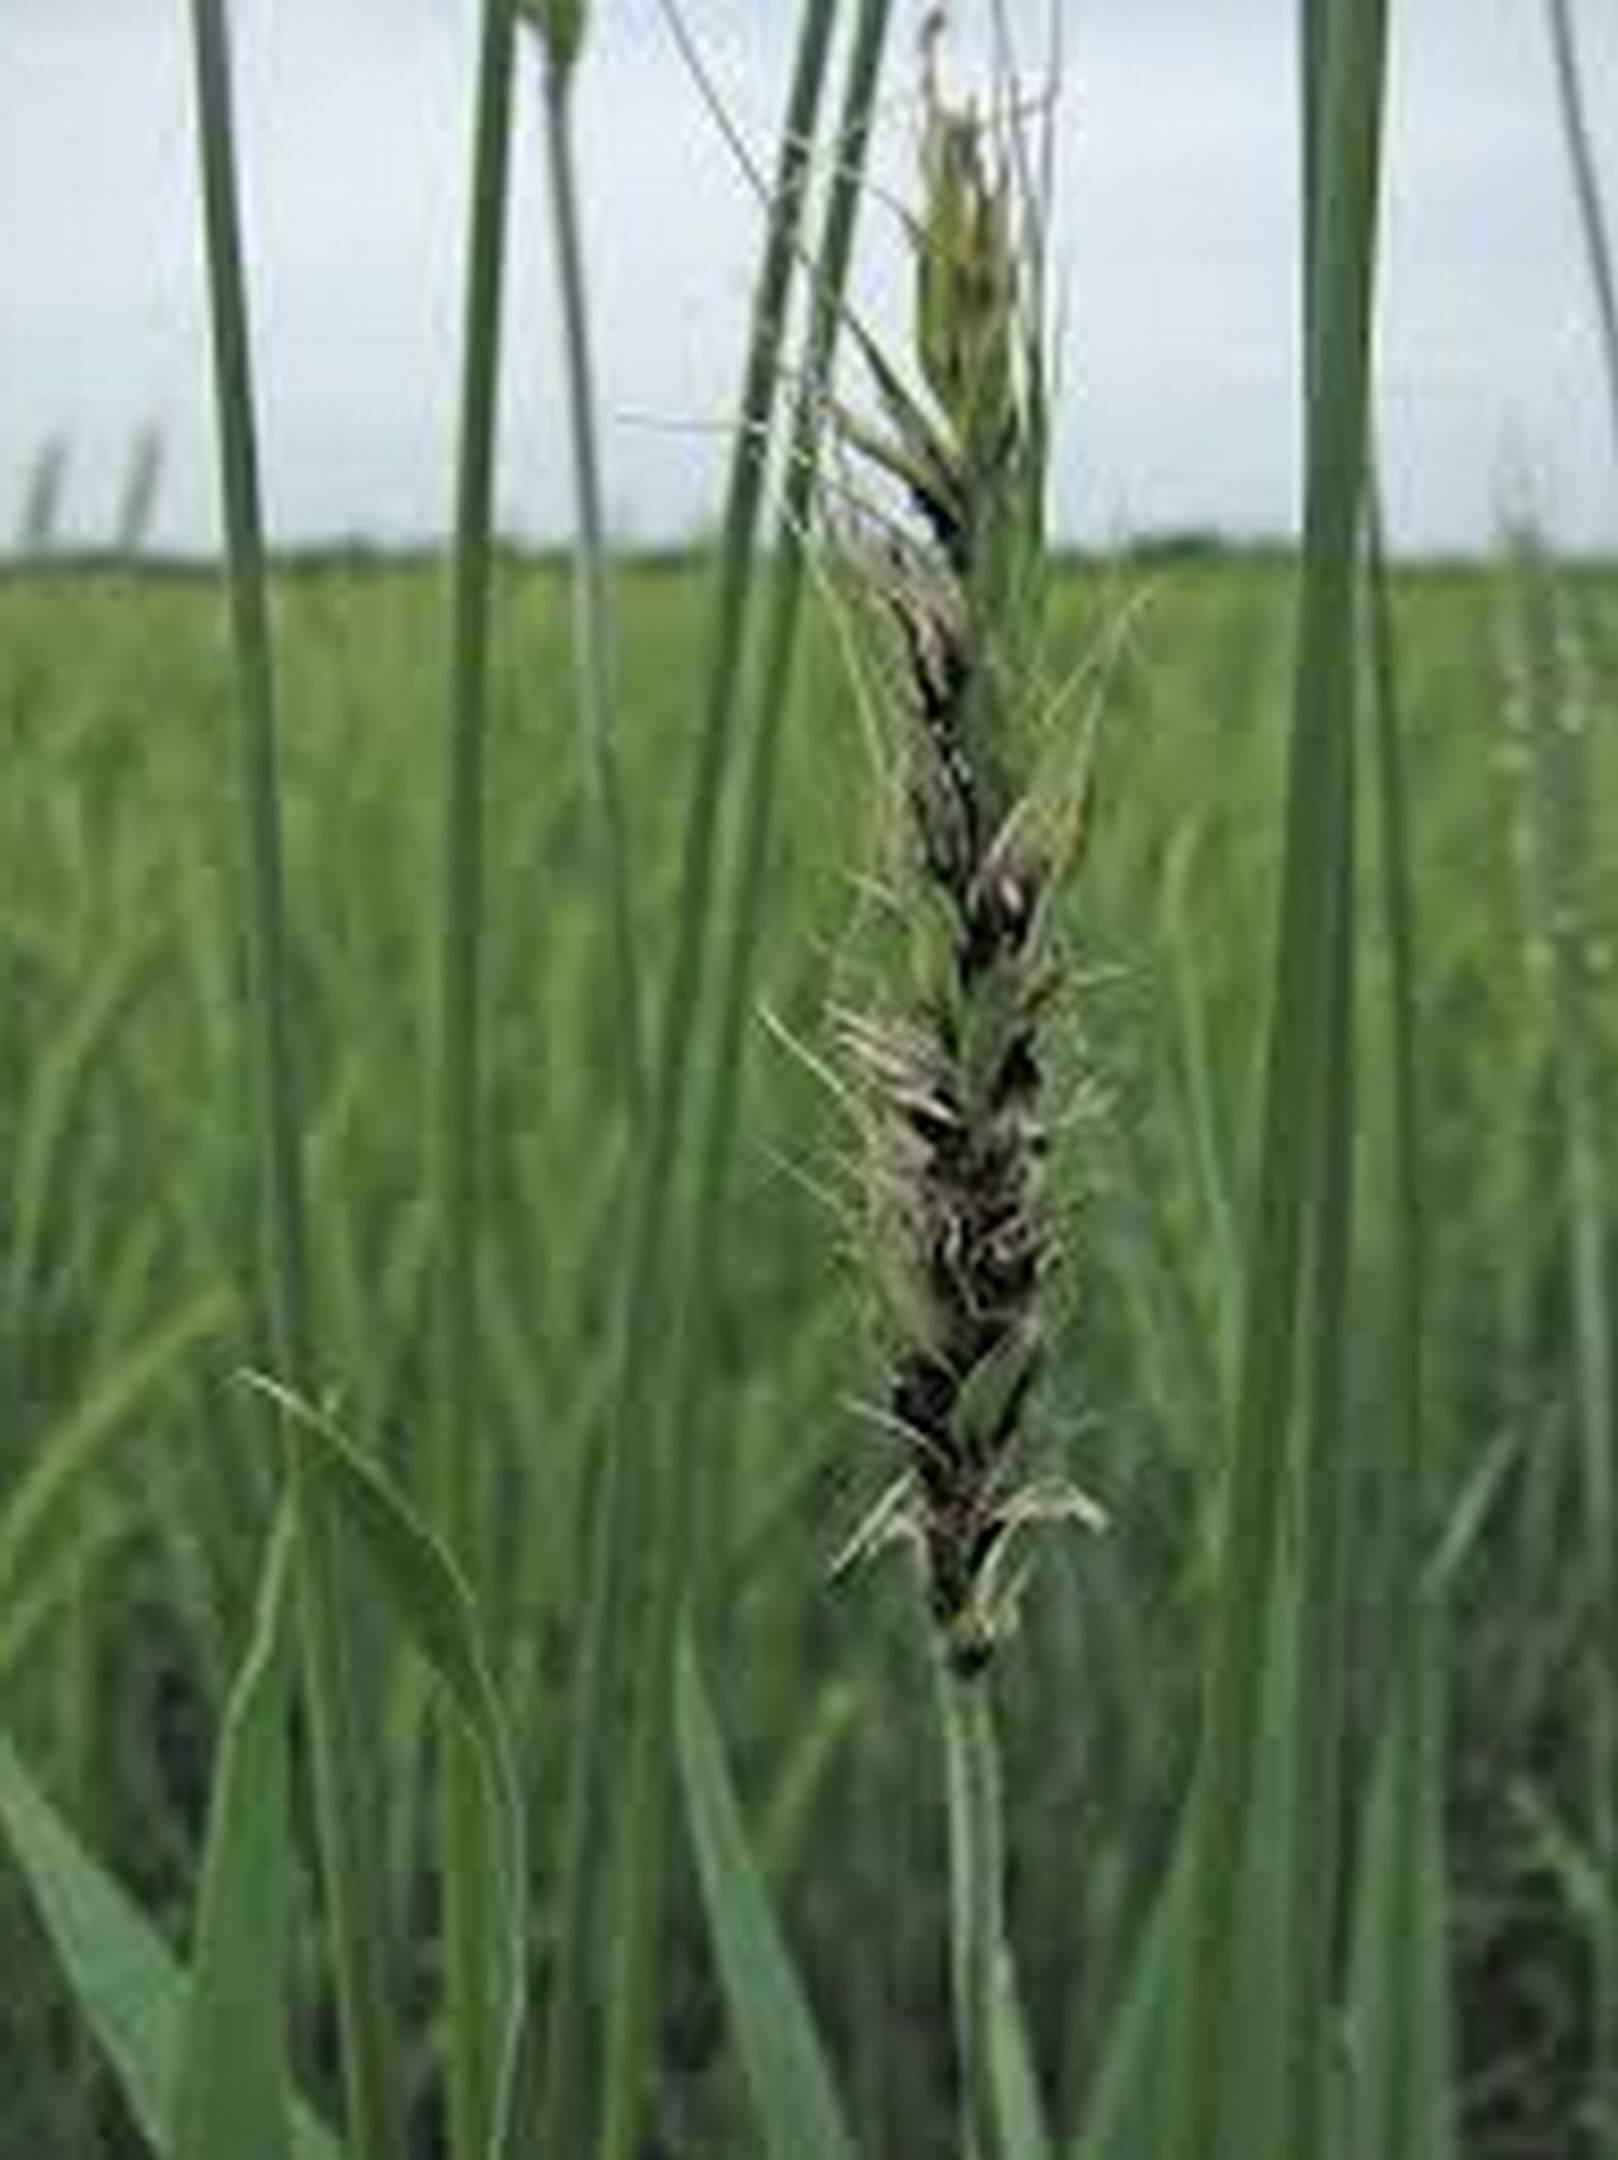Wheat Loose Smut: (772, 542, 1118, 1589)
